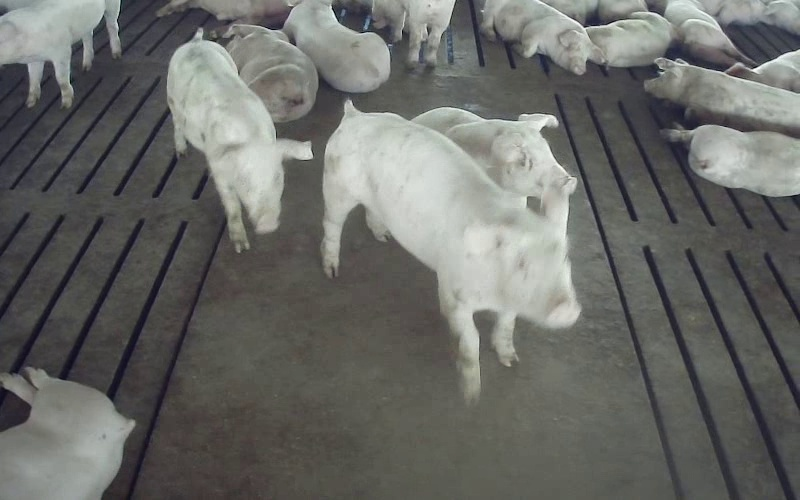pig: (323, 100, 579, 402), (167, 28, 312, 252), (412, 107, 567, 197), (644, 58, 799, 137), (661, 125, 799, 196), (283, 0, 389, 92), (223, 24, 317, 121), (482, 0, 604, 74), (664, 0, 756, 66), (586, 12, 673, 66)
